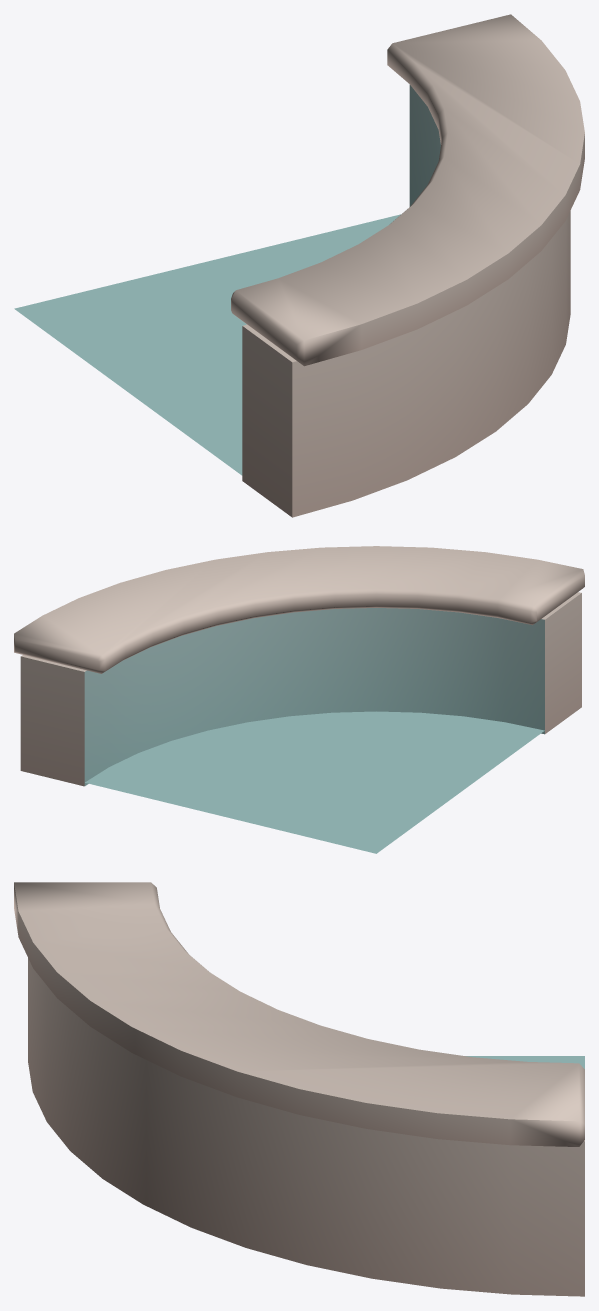
Rendered from pool-corner-round.glb.
3 views of the same model, one above another, from view 1: azimuth 30°, elevation 25°; view 2: azimuth 150°, elevation 25°; view 3: azimuth 270°, elevation 25° (orthographic). The views are drawn at different scales.
Visible parts, largest first — view 1: pool-corner-round; view 2: pool-corner-round; view 3: pool-corner-round.
Boxes of the visible parts, left/top/right/bottom form: pool-corner-round: left=14, top=14, right=584, bottom=517; pool-corner-round: left=14, top=546, right=584, bottom=853; pool-corner-round: left=14, top=882, right=584, bottom=1296.
Size of the model in its own units: 0.9993 by 0.35 by 0.9993.
